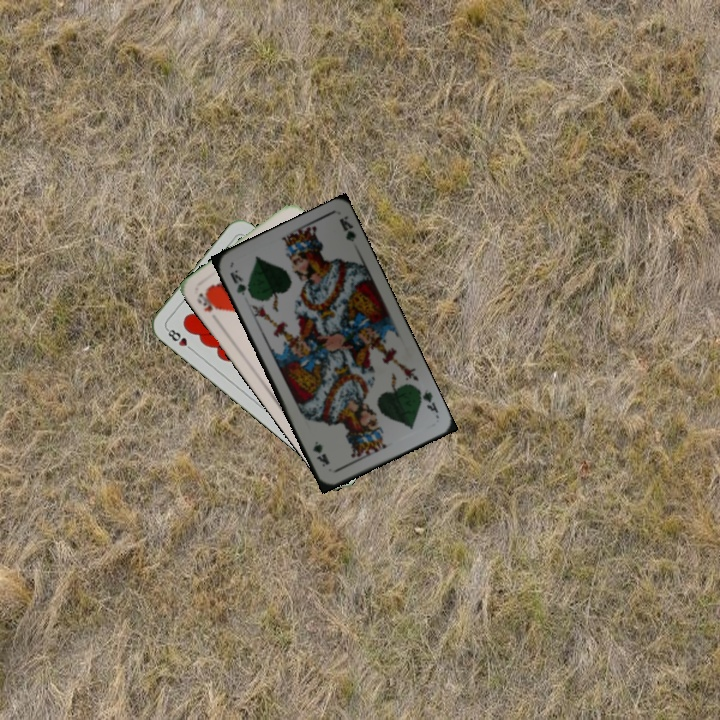GK: (226, 266, 255, 300), (413, 385, 441, 415)
H8: (162, 324, 197, 354)
HO: (193, 288, 222, 315)
